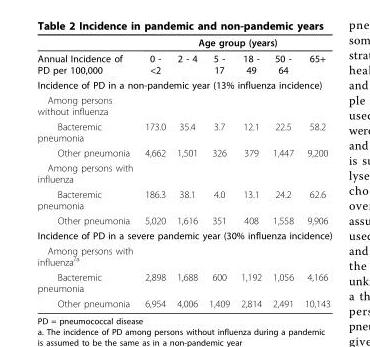table: (36, 36, 331, 308)
table column: (36, 36, 138, 308), (298, 36, 331, 308), (138, 36, 170, 308), (170, 36, 202, 308), (202, 36, 234, 308), (234, 36, 266, 308), (266, 36, 298, 308)
table column header: (36, 36, 331, 77)
table projected row header: (36, 159, 331, 186), (36, 242, 331, 269), (36, 92, 331, 118), (36, 77, 331, 92), (36, 227, 331, 242)
table row: (36, 50, 331, 77), (36, 159, 331, 186), (36, 242, 331, 269), (36, 92, 331, 118), (36, 118, 331, 144), (36, 186, 331, 212), (36, 269, 331, 295), (36, 77, 331, 92), (36, 144, 331, 159), (36, 212, 331, 227), (36, 227, 331, 242), (36, 36, 331, 50), (36, 295, 331, 308)
table spanning cell: (36, 36, 138, 77), (138, 36, 331, 50)
